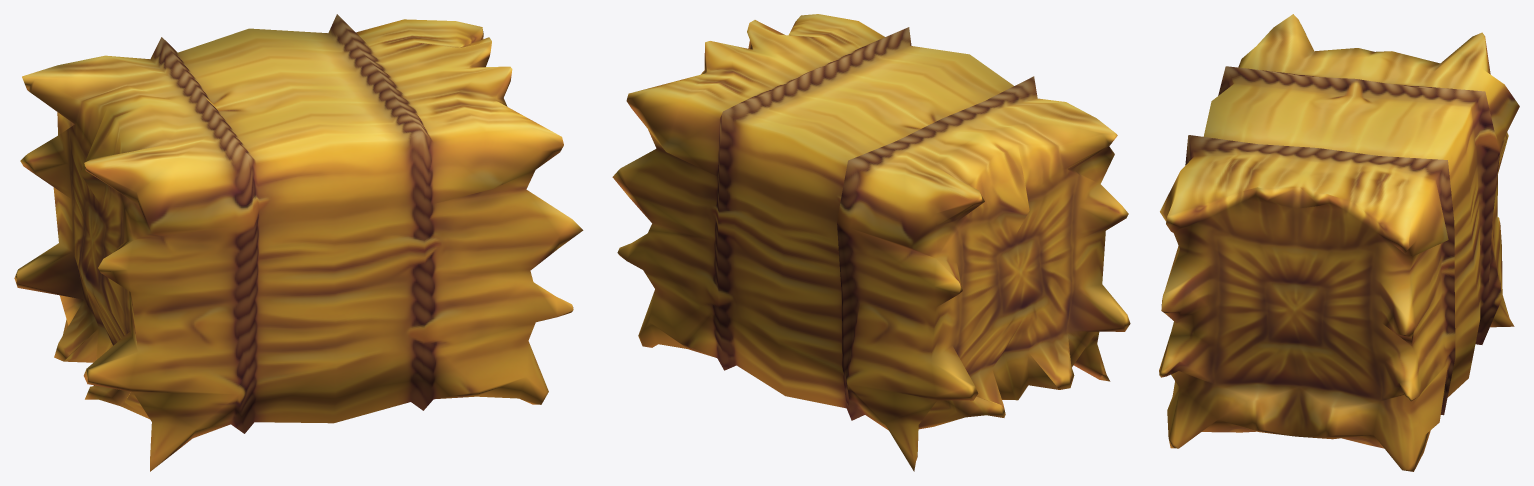
The model's file is tawara6.fbx.
The picture shows the model from 3 angles, left to right: view 1: azimuth 30°, elevation 25°; view 2: azimuth 150°, elevation 25°; view 3: azimuth 270°, elevation 25°; orthographic projection. The views are drawn at different scales.
Visible parts, largest first — view 1: Cube_Straw01; view 2: Cube_Straw01; view 3: Cube_Straw01.
Part boxes in pixels (x1,y1,x2,y2): Cube_Straw01: (14,14,583,471); Cube_Straw01: (612,14,1130,471); Cube_Straw01: (1159,14,1519,471).
Bounding box in the file's own units: 57.58 × 34.68 × 40.78.
Materials: 1 (1 with a texture image).
